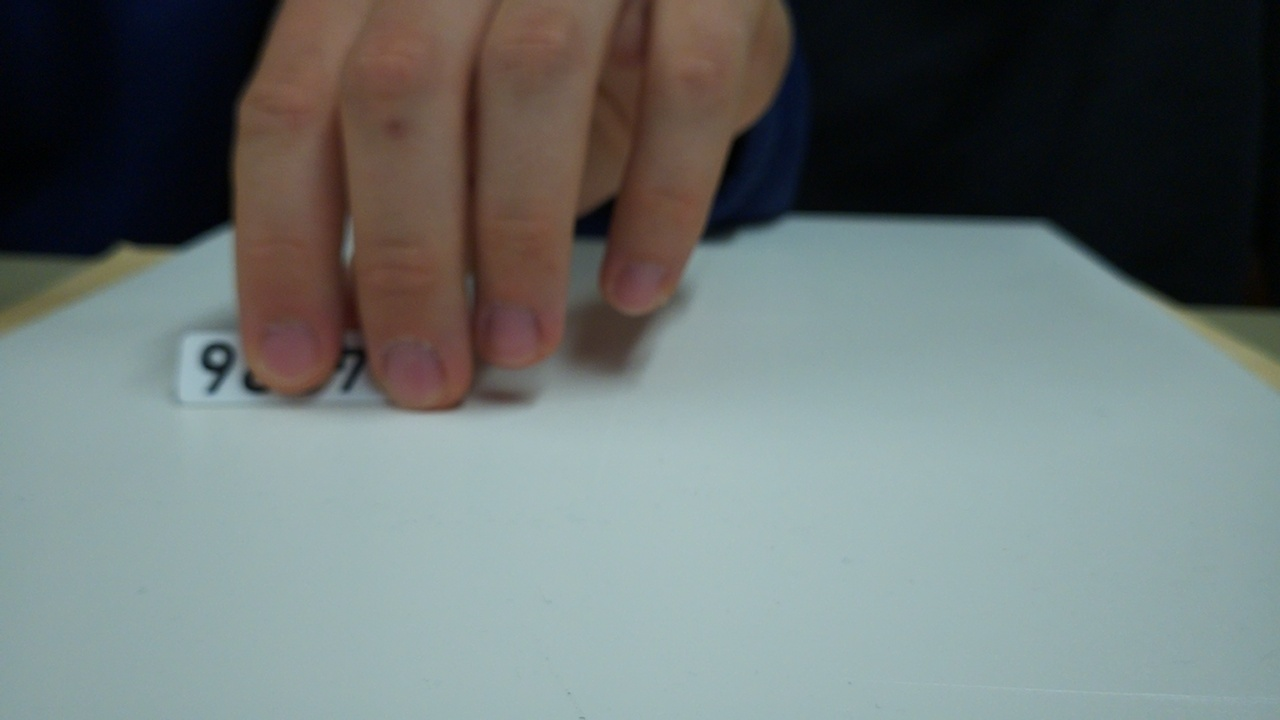license_plate: (175, 326, 408, 408)
